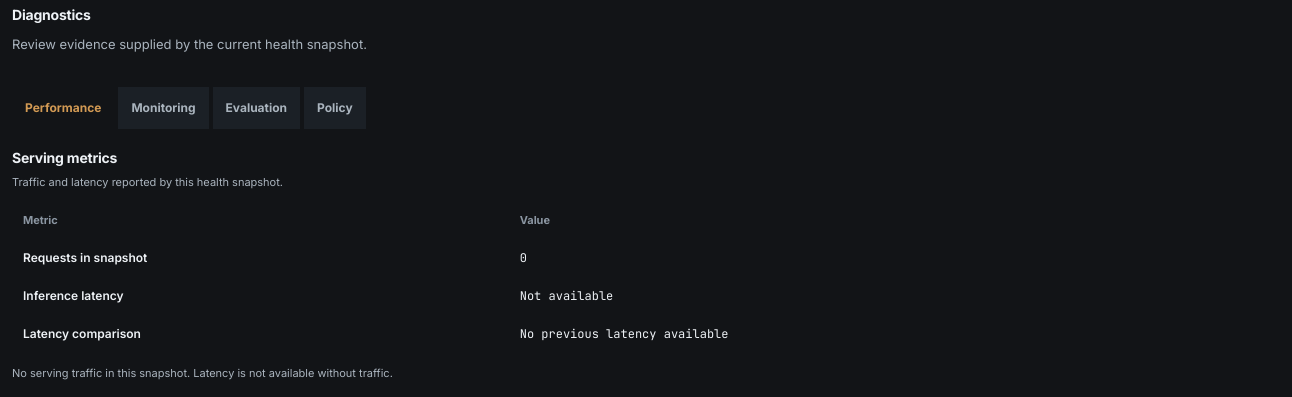
Test: MLHealthDiagnosticsSection › exposes readable diagnostic categories without leaking source fields
Expected: the table named "Serving metrics" is shown, [12,202,1291,353]
Expected: the text "No serving traffic in this snapshot. Latency is not available without traffic." is shown, [12,366,393,380]
Click the tab "Monitoring". click: (164, 108)
box: [118,87,209,129]
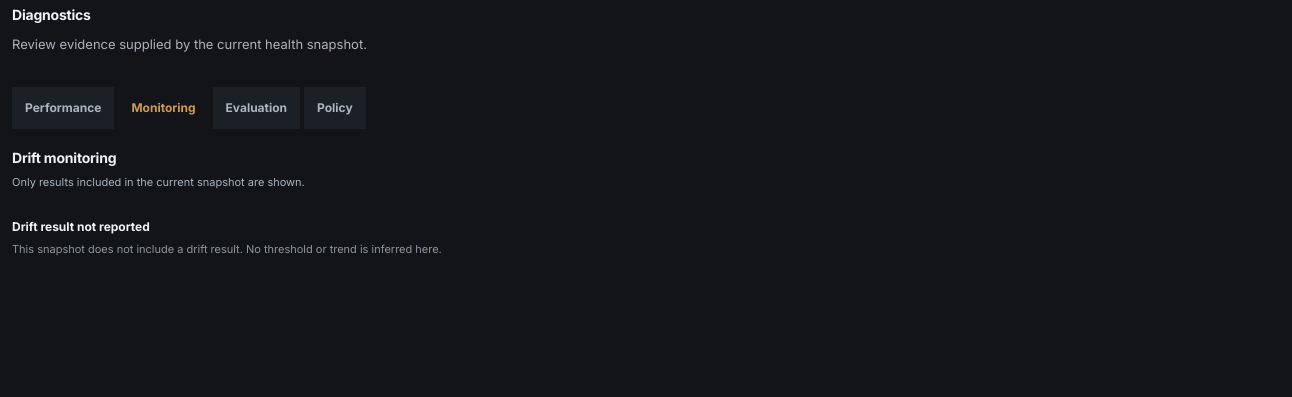
Now the text "Drift result not reported" is shown, box [12,219,150,234]
